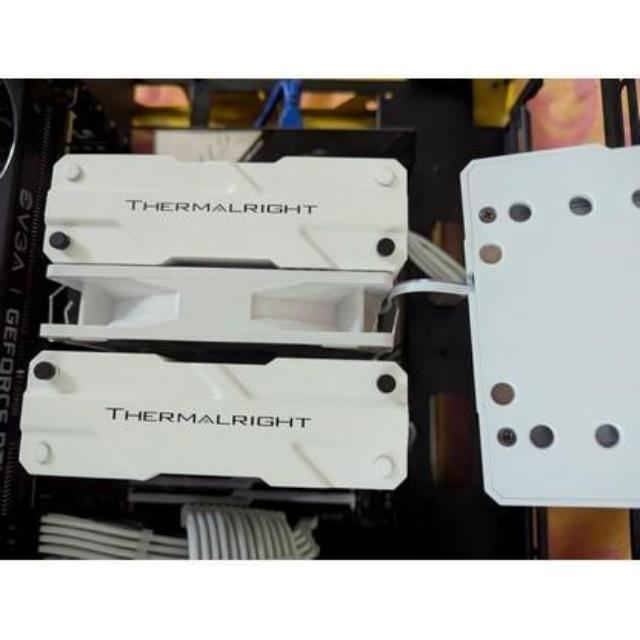CPU_Fan: (26, 140, 420, 500)
